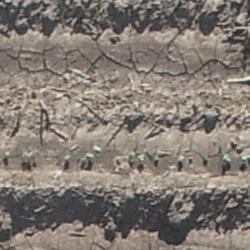cotton: (223, 155, 231, 162), (85, 154, 92, 160), (241, 154, 248, 160), (65, 154, 70, 160), (139, 155, 144, 161), (154, 155, 159, 161), (5, 152, 9, 159), (31, 155, 36, 160), (203, 157, 208, 161), (179, 156, 182, 162)
